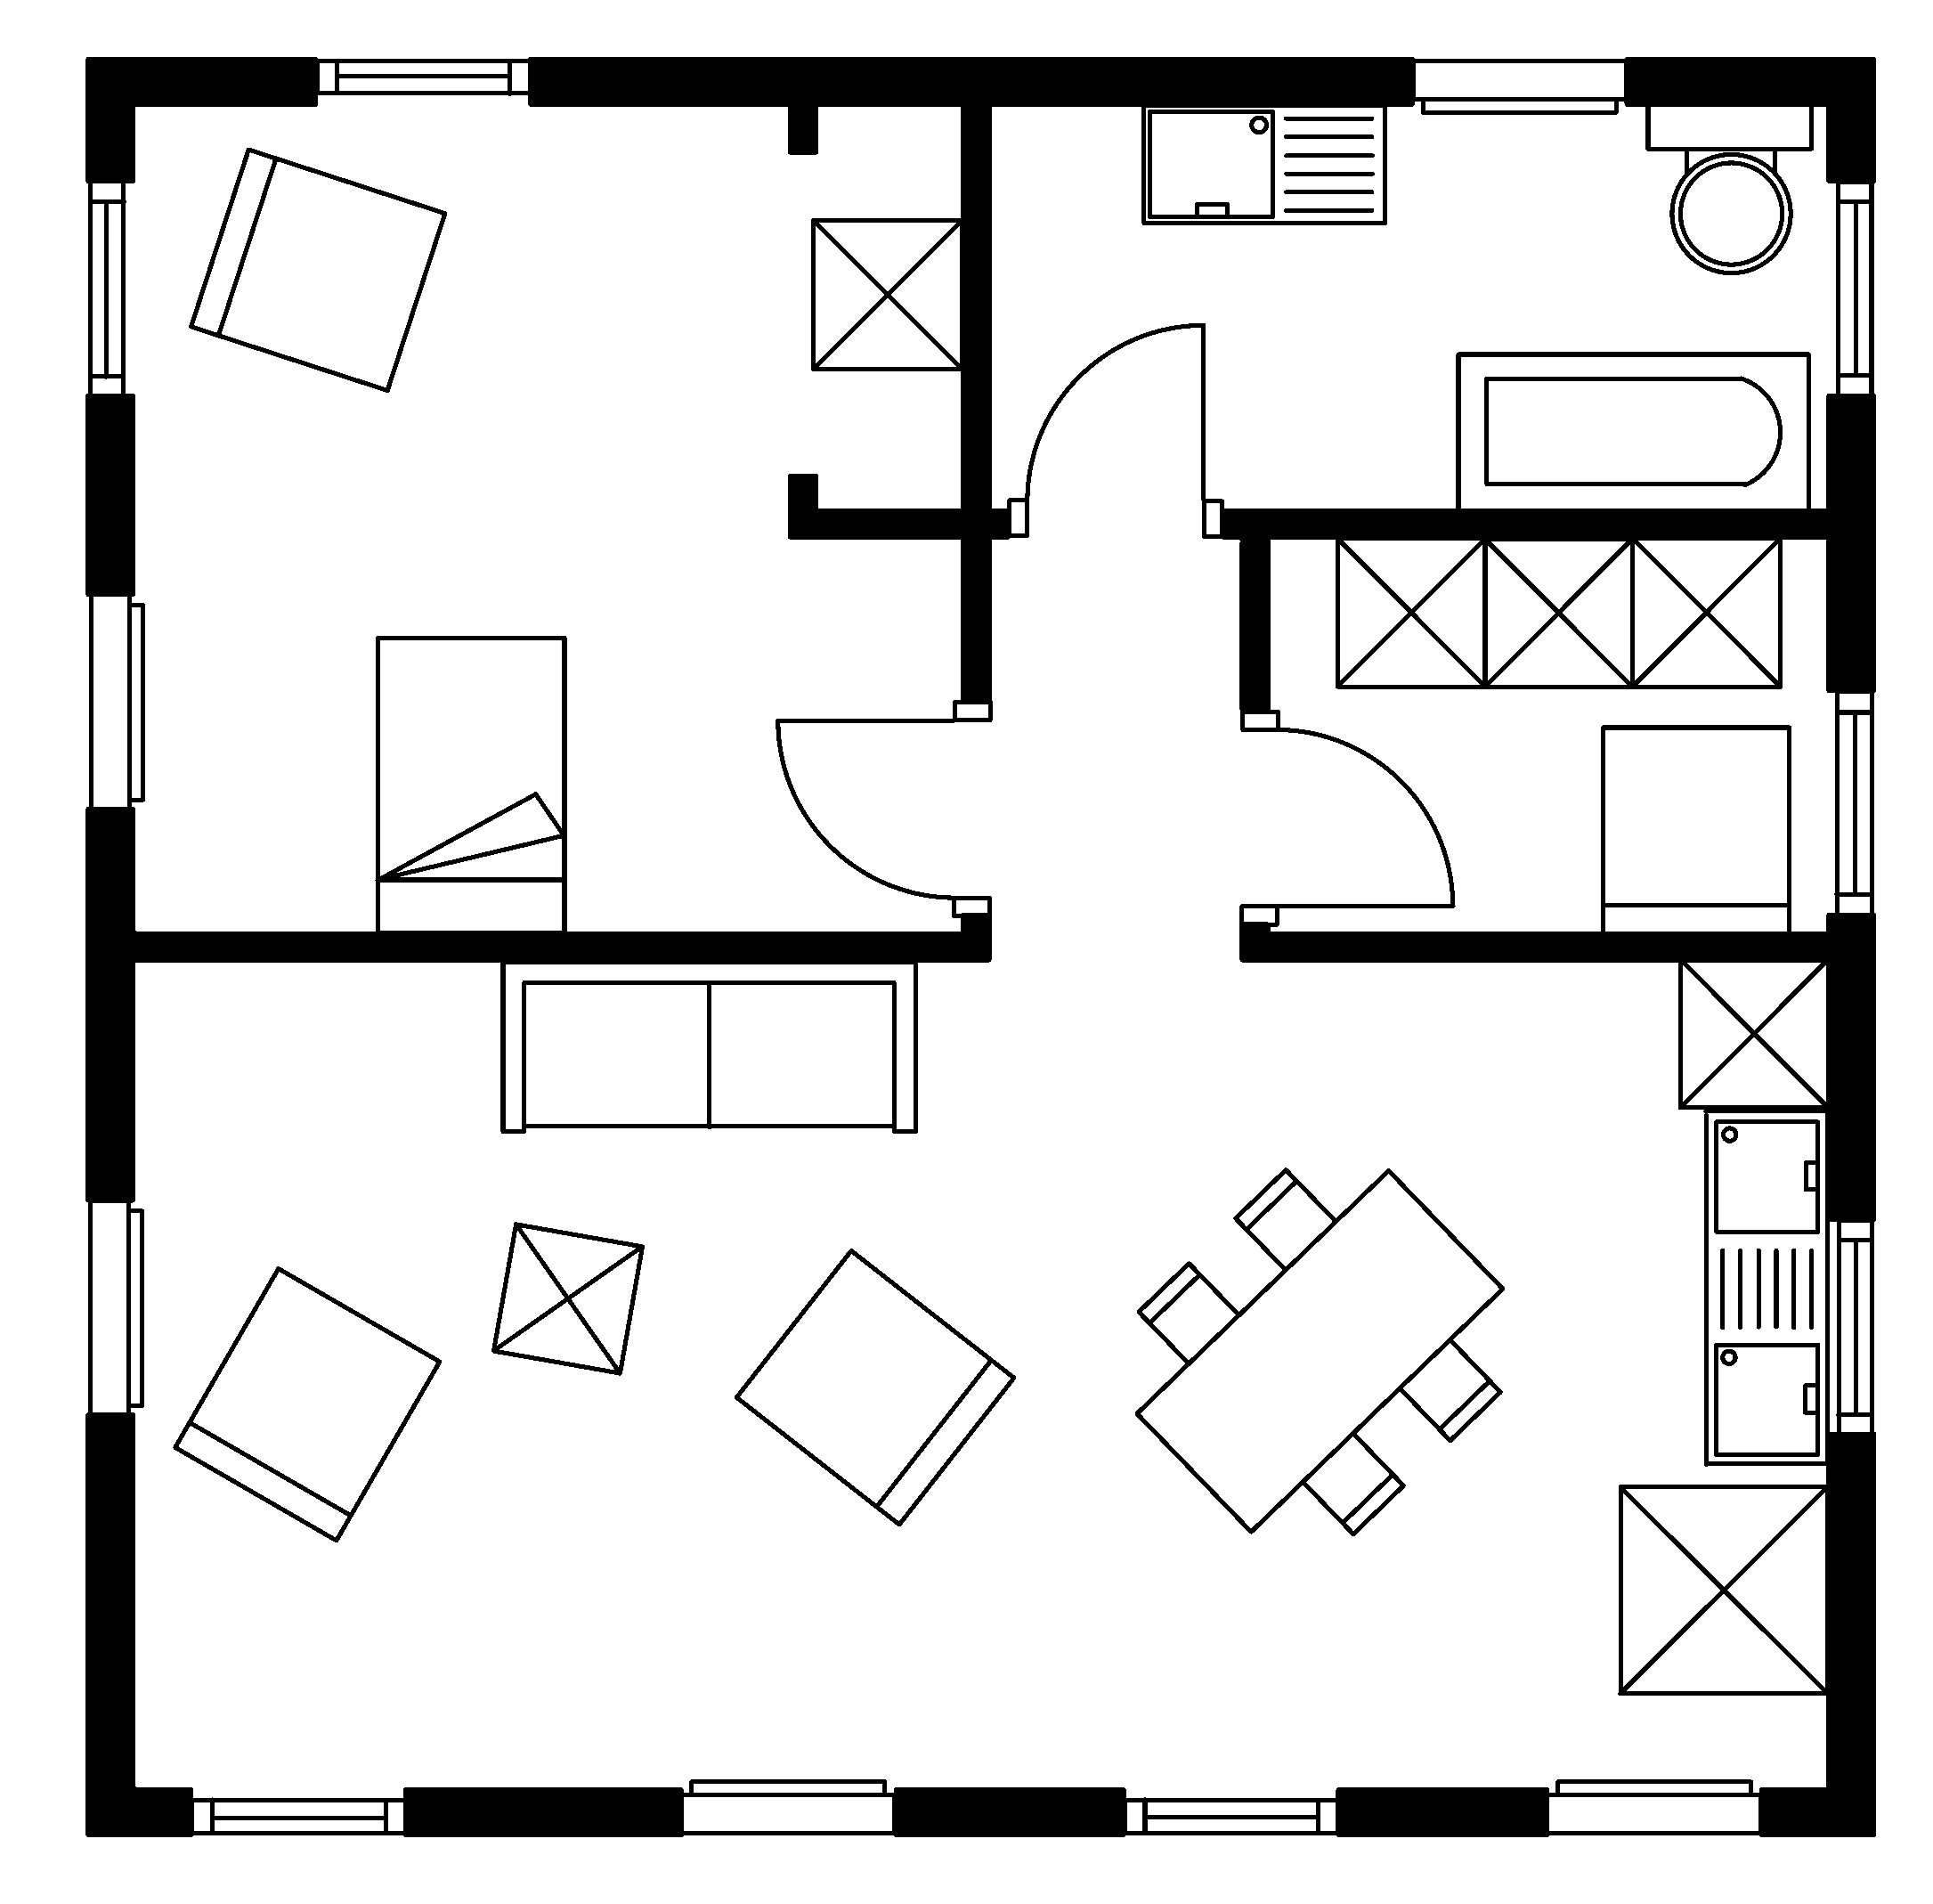bed: (373, 633, 566, 935)
coffee_table: (1616, 1482, 1830, 1697), (809, 216, 966, 371), (490, 1221, 645, 1376), (1480, 534, 1635, 689), (1628, 534, 1783, 689), (1333, 534, 1489, 689), (1675, 955, 1830, 1111)
dining_table: (1133, 1166, 1504, 1538)
large_sink: (1644, 101, 1814, 274)
large_sofa: (499, 959, 919, 1135)
sink: (1140, 101, 1387, 227)
small_sofa: (732, 1247, 1016, 1527), (171, 1264, 443, 1543), (187, 145, 448, 392), (1598, 724, 1792, 936)
tub: (1454, 350, 1811, 513)
twin_sink: (1701, 1107, 1830, 1468)
